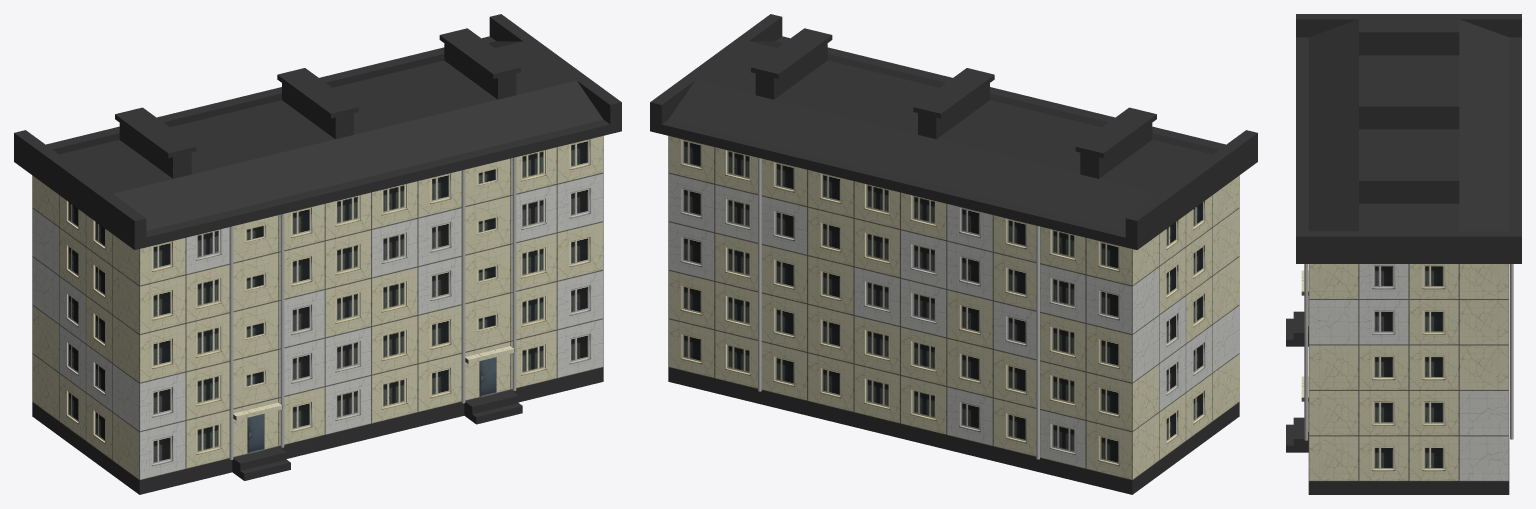
Rendered from panel_c01.glb.
The picture shows the model from 3 angles, left to right: view 1: azimuth 30°, elevation 25°; view 2: azimuth 150°, elevation 25°; view 3: azimuth 270°, elevation 25°; orthographic projection. The views are drawn at different scales.
Parts seen in each view (by area): view 1: Plane.055_Foundation_0, Cube.010_Foundation_0, Cube.011_Foundation_0, Cube.012_Foundation_0, Plane.007_Window1b_0, Plane.071_Window3b_0, Plane.074_Window3b_0, Plane.130_Window_0, Plane.001_Window3_0, Plane.003_Window3_0, Plane.006_Window3_0, Plane.014_Window1b_0 (+80 smaller); view 2: Plane.055_Foundation_0, Cube.010_Foundation_0, Cube.011_Foundation_0, Cube.012_Foundation_0, Plane.119_Window_0, Plane.146_Window_0, Plane.021_Window1b_0, Plane.065_Window1b_0, Plane.023_Window_0, Plane.066_Window3_0, Plane.094_Window3_0, Plane.122_Window_0 (+80 smaller); view 3: Plane.055_Foundation_0, Cube.010_Foundation_0, Cube.012_Foundation_0, Cube.011_Foundation_0, Plane.028_Wall_0, Plane.166_Wallb_0, Plane.168_Window_0, Plane.010_Wall_0, Plane.025_Wallb_0, Plane.027_Window_0, Plane.029_Wall_0, Plane.030_Wallb_0 (+26 smaller).
Boxes of the visible parts, x1,y1,x2,y2 form: Plane.055_Foundation_0: (52,41,603,230); Cube.010_Foundation_0: (14,36,621,249); Cube.011_Foundation_0: (14,130,146,240); Cube.012_Foundation_0: (489,14,621,124); Plane.007_Window1b_0: (557,318,603,378); Plane.071_Window3b_0: (325,375,371,434); Plane.074_Window3b_0: (325,326,371,386); Plane.130_Window_0: (557,221,603,281); Plane.001_Window3_0: (325,278,371,337); Plane.003_Window3_0: (371,364,417,423); Plane.006_Window3_0: (325,229,371,289); Plane.014_Window1b_0: (139,420,185,480); Plane.055_Foundation_0: (668,41,1219,230); Cube.010_Foundation_0: (650,36,1257,249); Cube.011_Foundation_0: (1125,130,1257,240); Cube.012_Foundation_0: (650,14,782,124); Plane.119_Window_0: (946,289,993,349); Plane.146_Window_0: (946,338,993,397); Plane.021_Window1b_0: (946,386,993,446); Plane.065_Window1b_0: (946,241,993,300); Plane.023_Window_0: (668,318,714,378); Plane.066_Window3_0: (900,375,946,434); Plane.094_Window3_0: (900,326,946,386); Plane.122_Window_0: (807,255,853,315); Plane.055_Foundation_0: (1308,19,1509,231); Cube.010_Foundation_0: (1296,37,1521,263); Cube.012_Foundation_0: (1296,231,1521,254); Cube.011_Foundation_0: (1296,14,1521,37); Plane.028_Wall_0: (1308,390,1358,435); Plane.166_Wallb_0: (1459,390,1509,435); Plane.168_Window_0: (1409,390,1459,435); Plane.010_Wall_0: (1308,436,1358,481); Plane.025_Wallb_0: (1459,436,1509,481); Plane.027_Window_0: (1409,436,1459,481); Plane.029_Wall_0: (1308,345,1358,390); Plane.030_Wallb_0: (1308,299,1358,344).
Size of the model in its own units: 28.11 by 17 by 12.58.
10 materials, 8 textured.
